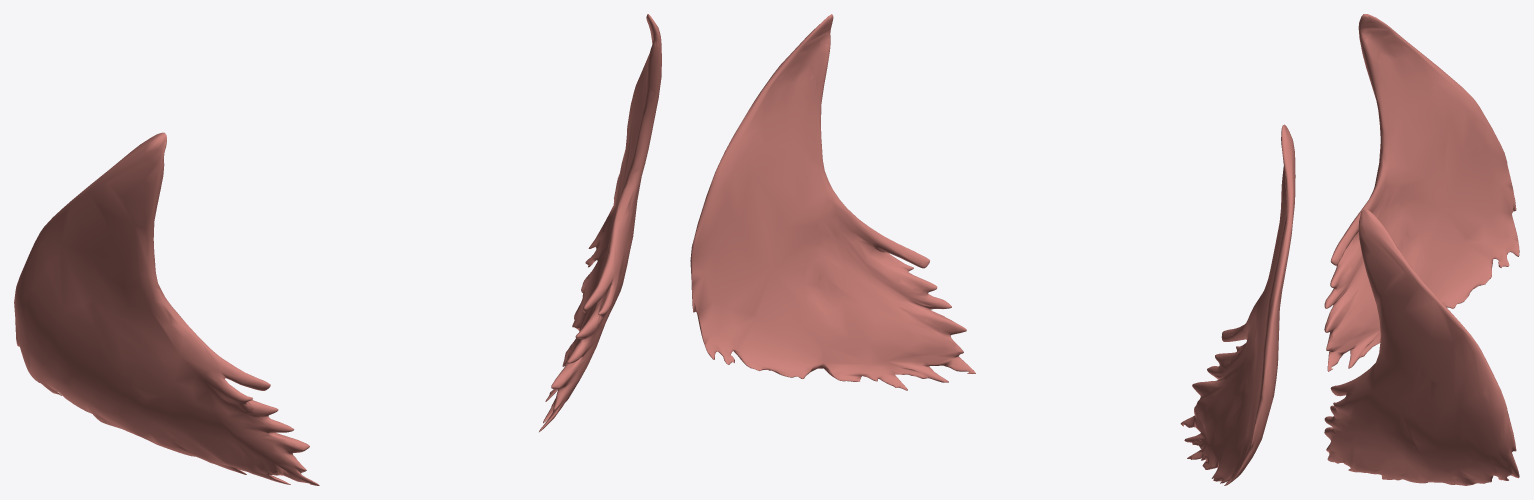
Rendered from dao_lod1.glb.
3 views of the same model, side by side, from view 1: azimuth 30°, elevation 25°; view 2: azimuth 150°, elevation 25°; view 3: azimuth 270°, elevation 25° (orthographic). The views are drawn at different scales.
Visible parts, largest first — view 1: dao_R_lod1, dao_L_lod1; view 2: dao_L_lod1, dao_R_lod1; view 3: dao_R_lod1, dao_L_lod1.
Boxes of the visible parts, x1,y1,x2,y2 form: dao_R_lod1: (14,132,319,485); dao_L_lod1: (539,14,661,431); dao_L_lod1: (690,14,975,390); dao_R_lod1: (1180,124,1295,485); dao_R_lod1: (1324,14,1519,371); dao_L_lod1: (1324,209,1519,485).
Bounding box in the file's own units: 0.0744 × 0.043 × 0.0247.
